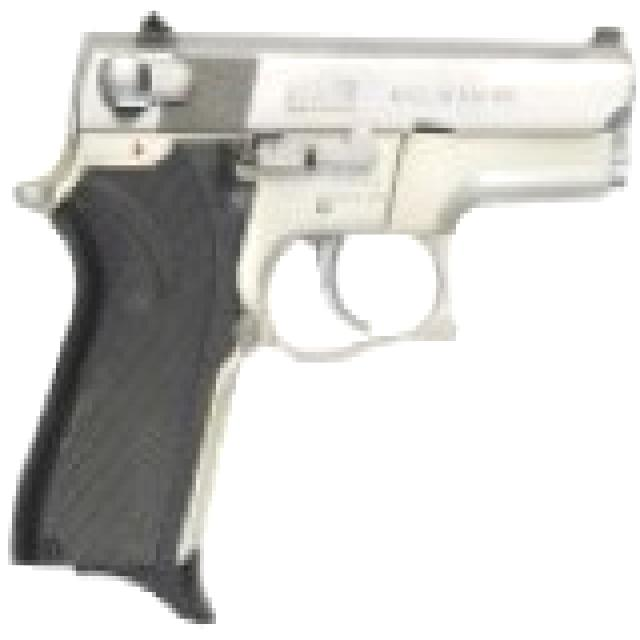pistol: (12, 11, 640, 608)
